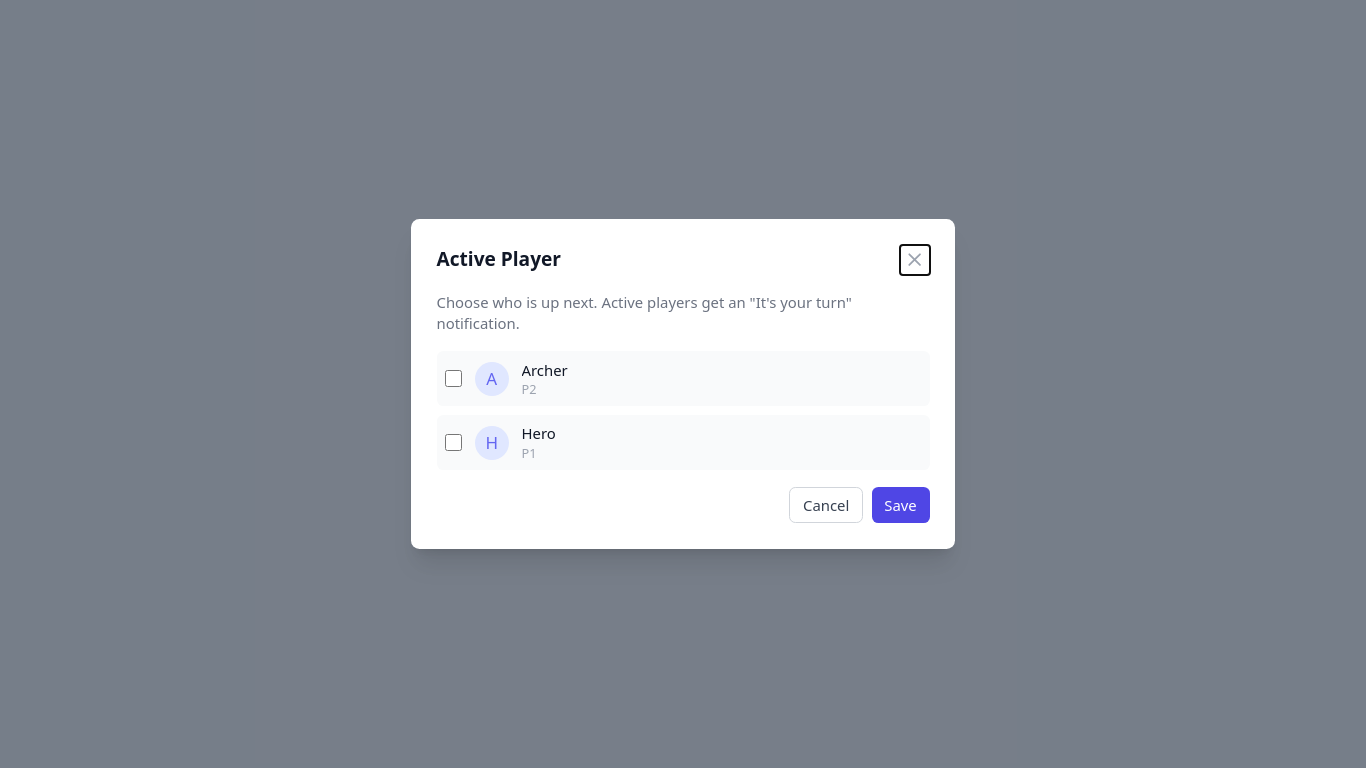
Scenario: ActivePlayerModal › shows an error and keeps the modal open when the RPC returns an error
The width and height of the screenshot is (1366, 768).
Click the button "Save" at (901, 505), box [872, 487, 930, 523]
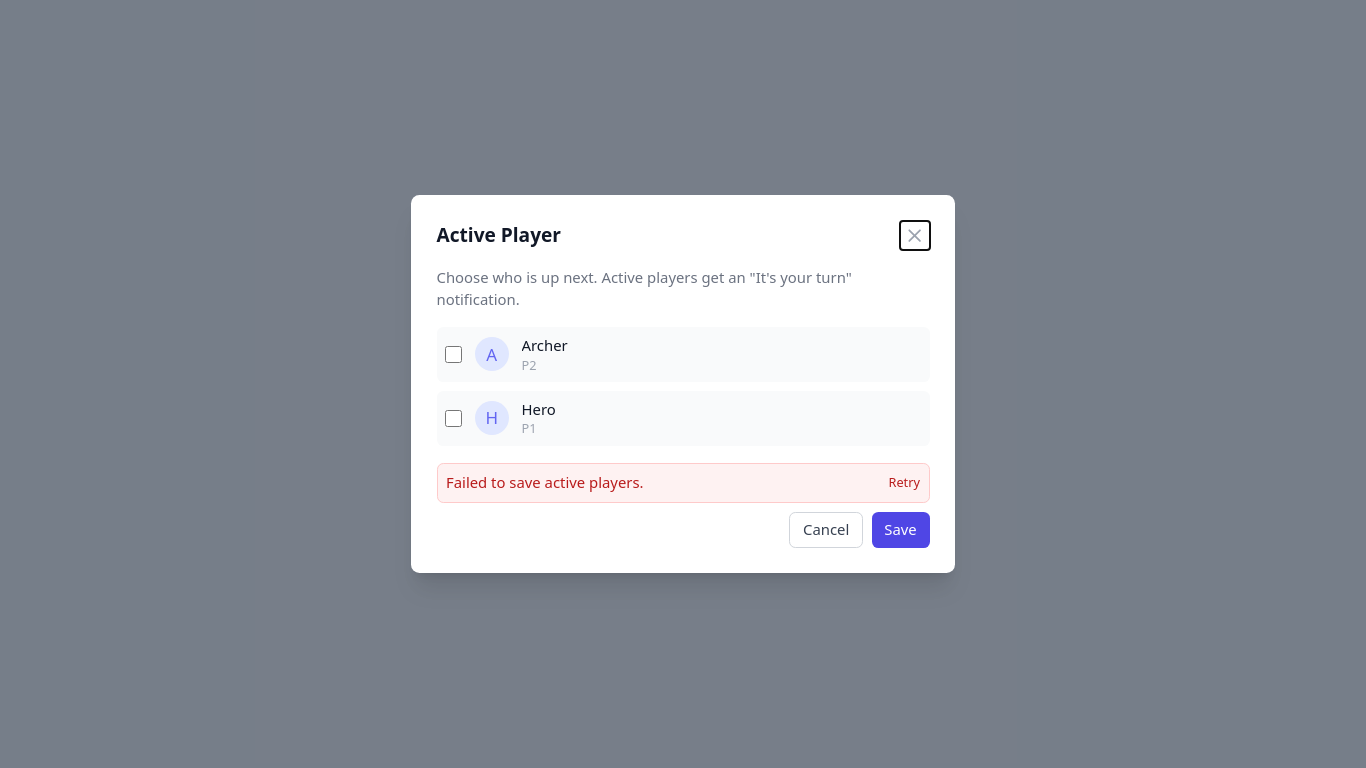
Expected: the message "Failed to save active players. Retry" is shown, [436, 463, 930, 503]
Expected: the text "Failed to save active players." is shown, [446, 472, 644, 494]
Expected: the button "Retry" is shown, [888, 474, 920, 491]
